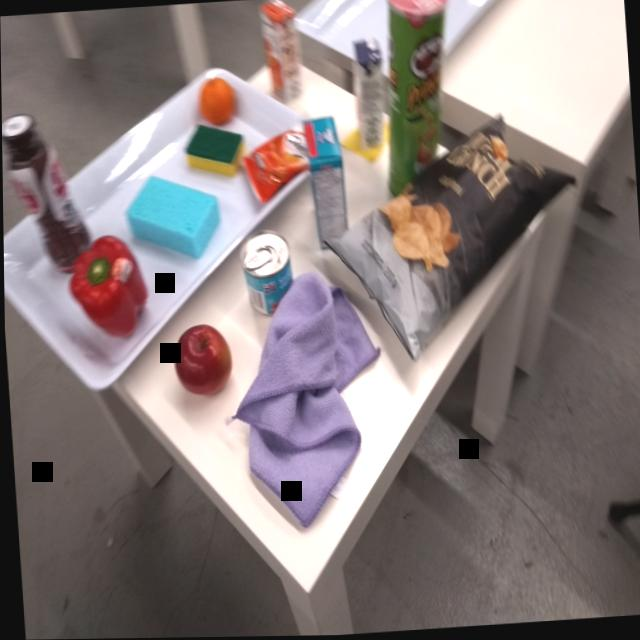apple: (169, 322, 237, 403)
cereal: (298, 112, 354, 252)
chocolate_drink: (1, 104, 95, 280)
cloth_opl: (220, 266, 393, 535)
grape_juice: (346, 37, 390, 156)
orange: (196, 73, 240, 128)
orange_juice: (254, 0, 307, 113)
paprika: (63, 232, 155, 346)
potato_chips: (310, 102, 593, 370)
pringles: (370, 0, 464, 204)
sausages: (236, 232, 295, 326)
scrubby: (182, 118, 247, 183)
sponge_opl: (120, 172, 224, 266)
